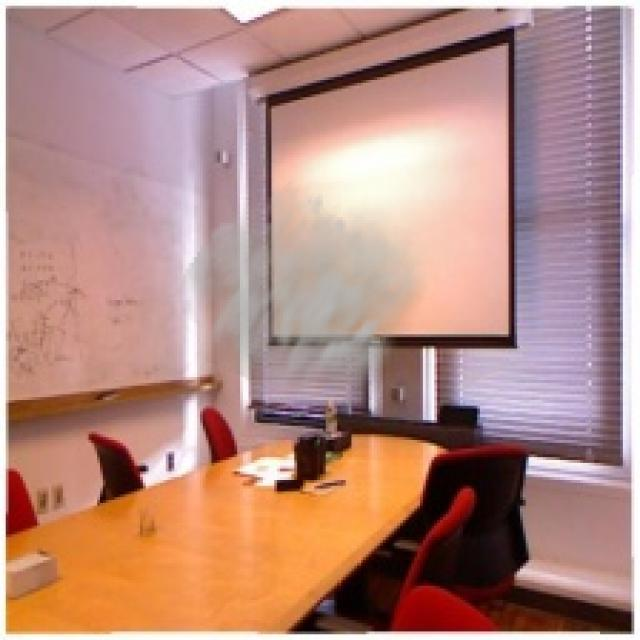Smoke: (172, 177, 434, 426)
